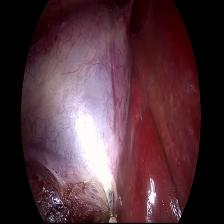Hook: (103, 183, 126, 224)
